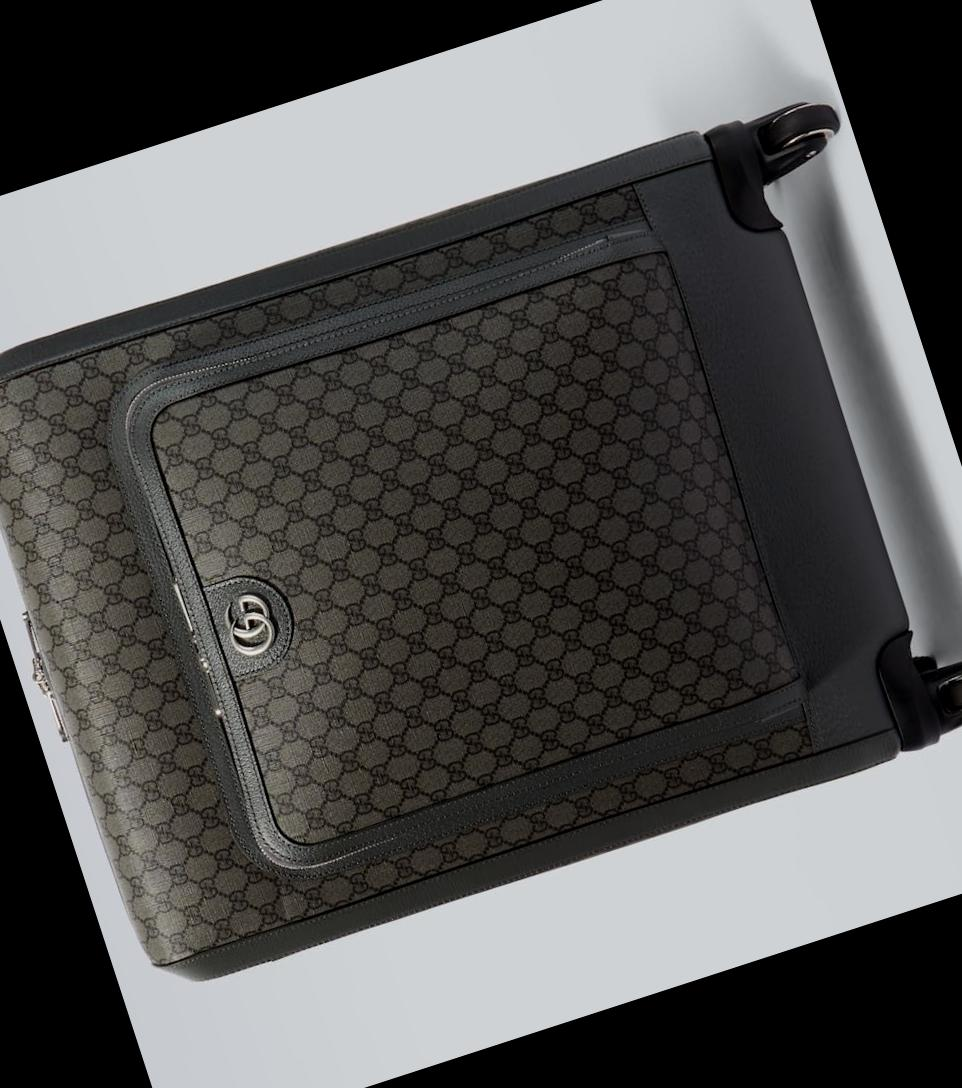GUCCI: (216, 587, 282, 660)
